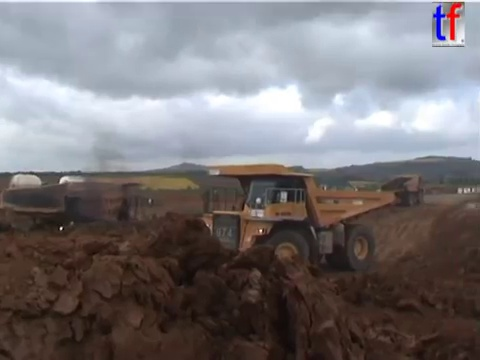truck: (191, 161, 399, 277), (3, 179, 156, 243), (378, 172, 428, 208), (7, 170, 51, 199), (56, 173, 97, 196)
